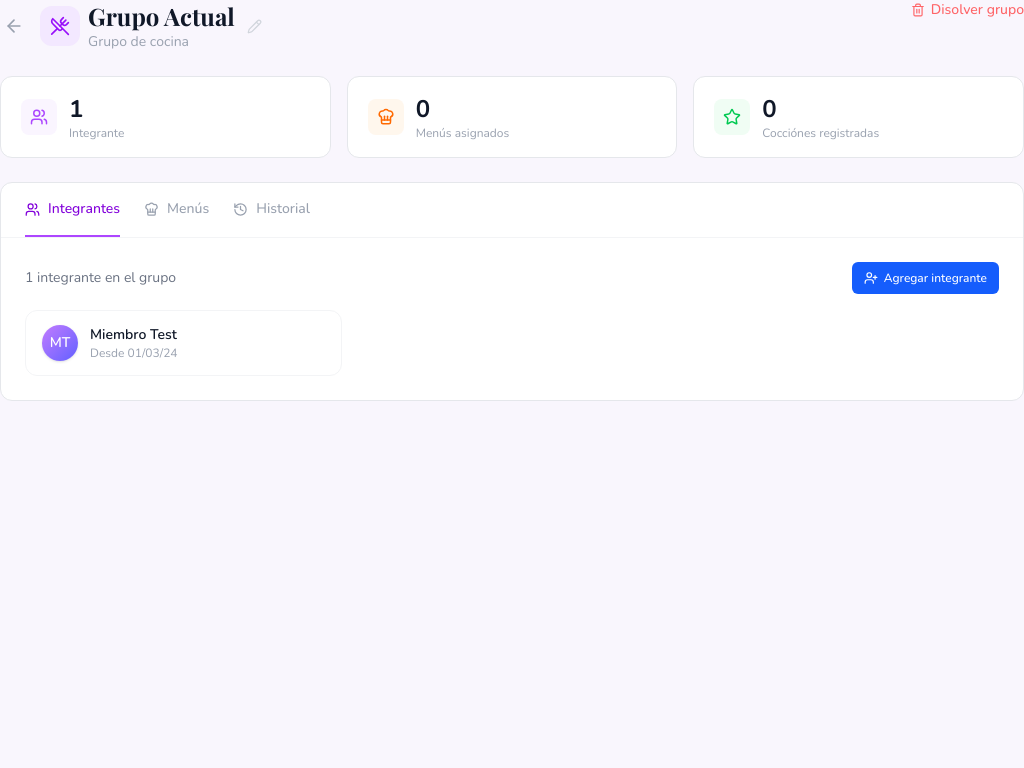
Test case: GrupoDetailPage — modal "Agregar integrante" › rotula como "Ya es integrante" a quien ya está en este grupo, sin botón Agregar
The width and height of the screenshot is (1024, 768).
Click the button "Agregar integrante": (925, 278) [852, 262, 999, 294]
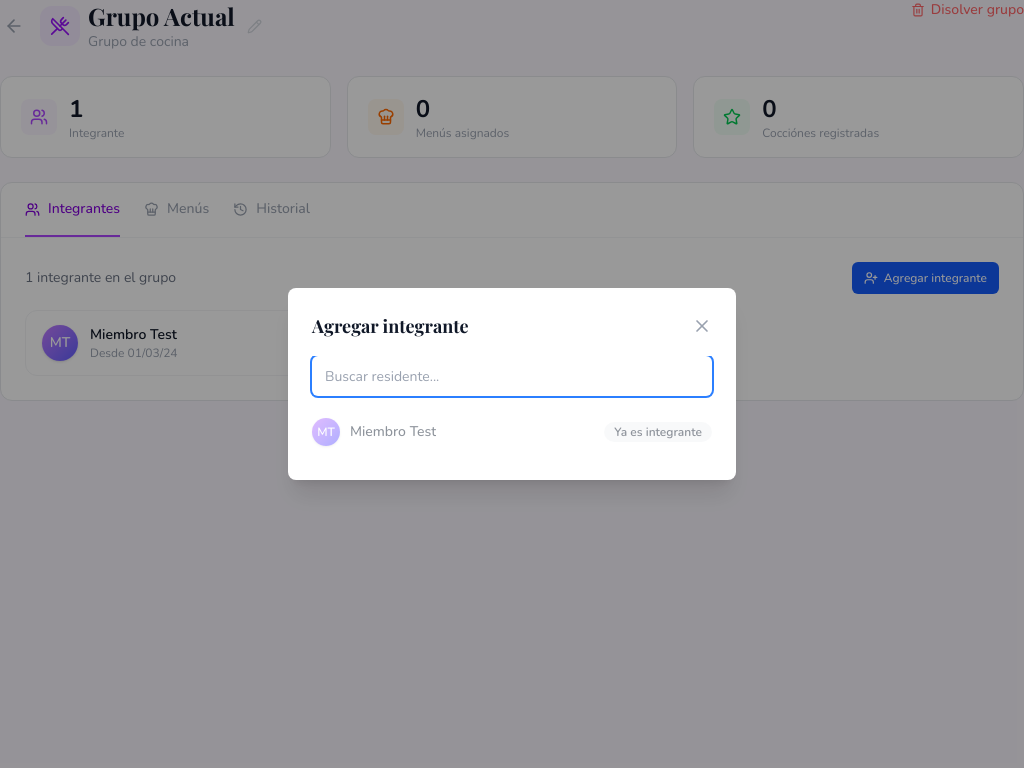
Result: the text "Ya es integrante" is shown at [604, 422, 712, 442]
